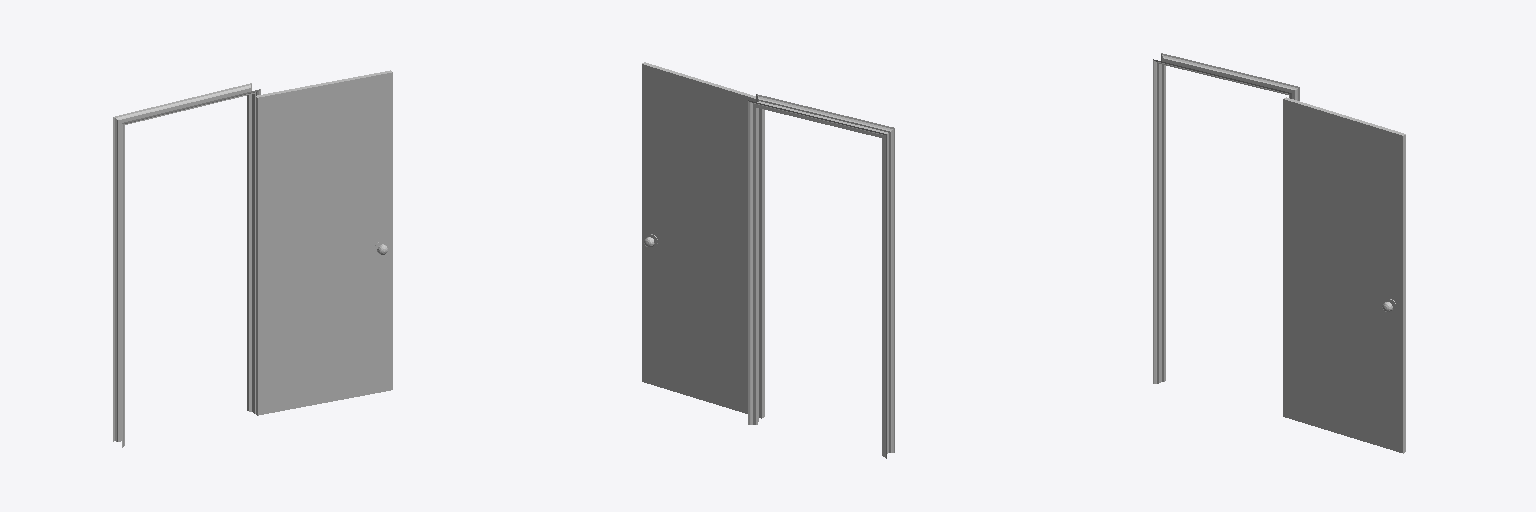
The model's file is mdl_door_02_openwide.obj.
3 renders of one model, left to right at view 1: azimuth 30°, elevation 25°; view 2: azimuth 150°, elevation 25°; view 3: azimuth 330°, elevation 25°, orthographic.
Parts seen in each view (by area): view 1: Object003; view 2: Object003; view 3: Object003.
Part boxes in pixels (bbox=[...]): Object003: bbox=[113, 70, 392, 447]; Object003: bbox=[642, 62, 894, 458]; Object003: bbox=[1153, 53, 1405, 453].
Size of the model in its own units: 177 by 210 by 27.84.